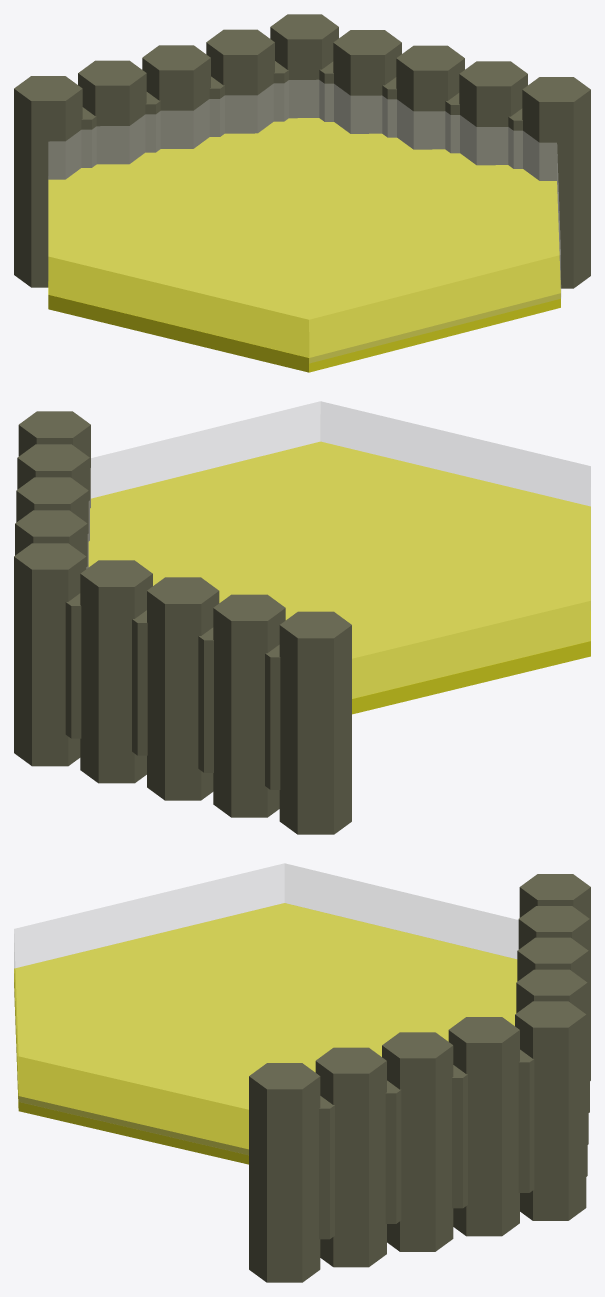
File: Tatles1.fbx_Titel_Voda_2.fbx
3 views of the same model, one above another, from view 1: azimuth 30°, elevation 25°; view 2: azimuth 150°, elevation 25°; view 3: azimuth 270°, elevation 25° (orthographic). The views are drawn at different scales.
Visible parts, largest first — view 1: Voda.005, Dno.005, Stena_2; view 2: Voda.005, Stena_2, Dno.005; view 3: Voda.005, Stena_2, Dno.005.
Boxes of the visible parts, box(x1,y1,x2,y2) form: Voda.005: box(48, 80, 561, 362); Dno.005: box(48, 118, 560, 372); Stena_2: box(14, 14, 590, 288); Voda.005: box(86, 401, 590, 698); Stena_2: box(14, 411, 351, 834); Dno.005: box(88, 441, 590, 714); Voda.005: box(14, 863, 518, 1154); Stena_2: box(249, 874, 590, 1282); Dno.005: box(14, 903, 517, 1164).
Bounding box in the file's own units: 19.13 × 6.46 × 17.24.
